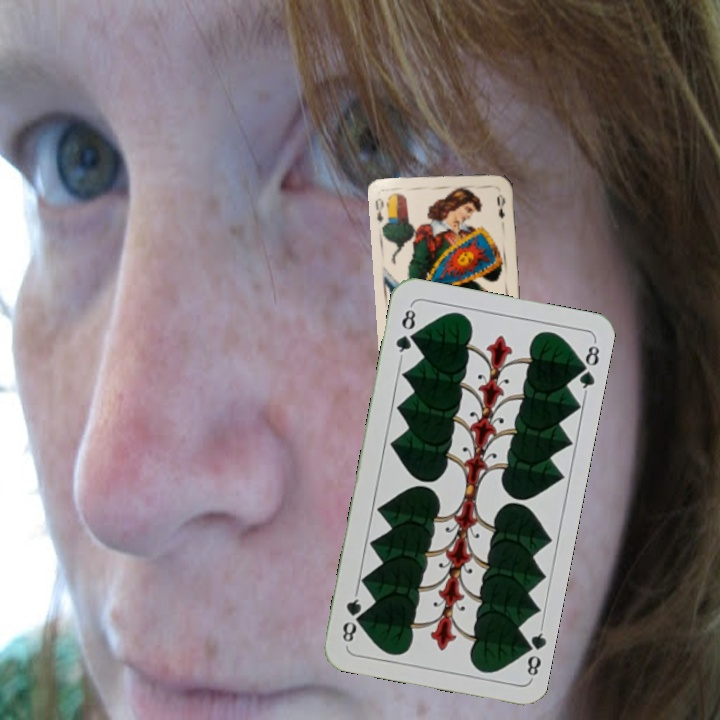EO: (371, 194, 387, 225)
G8: (517, 622, 548, 681), (391, 302, 418, 361)
